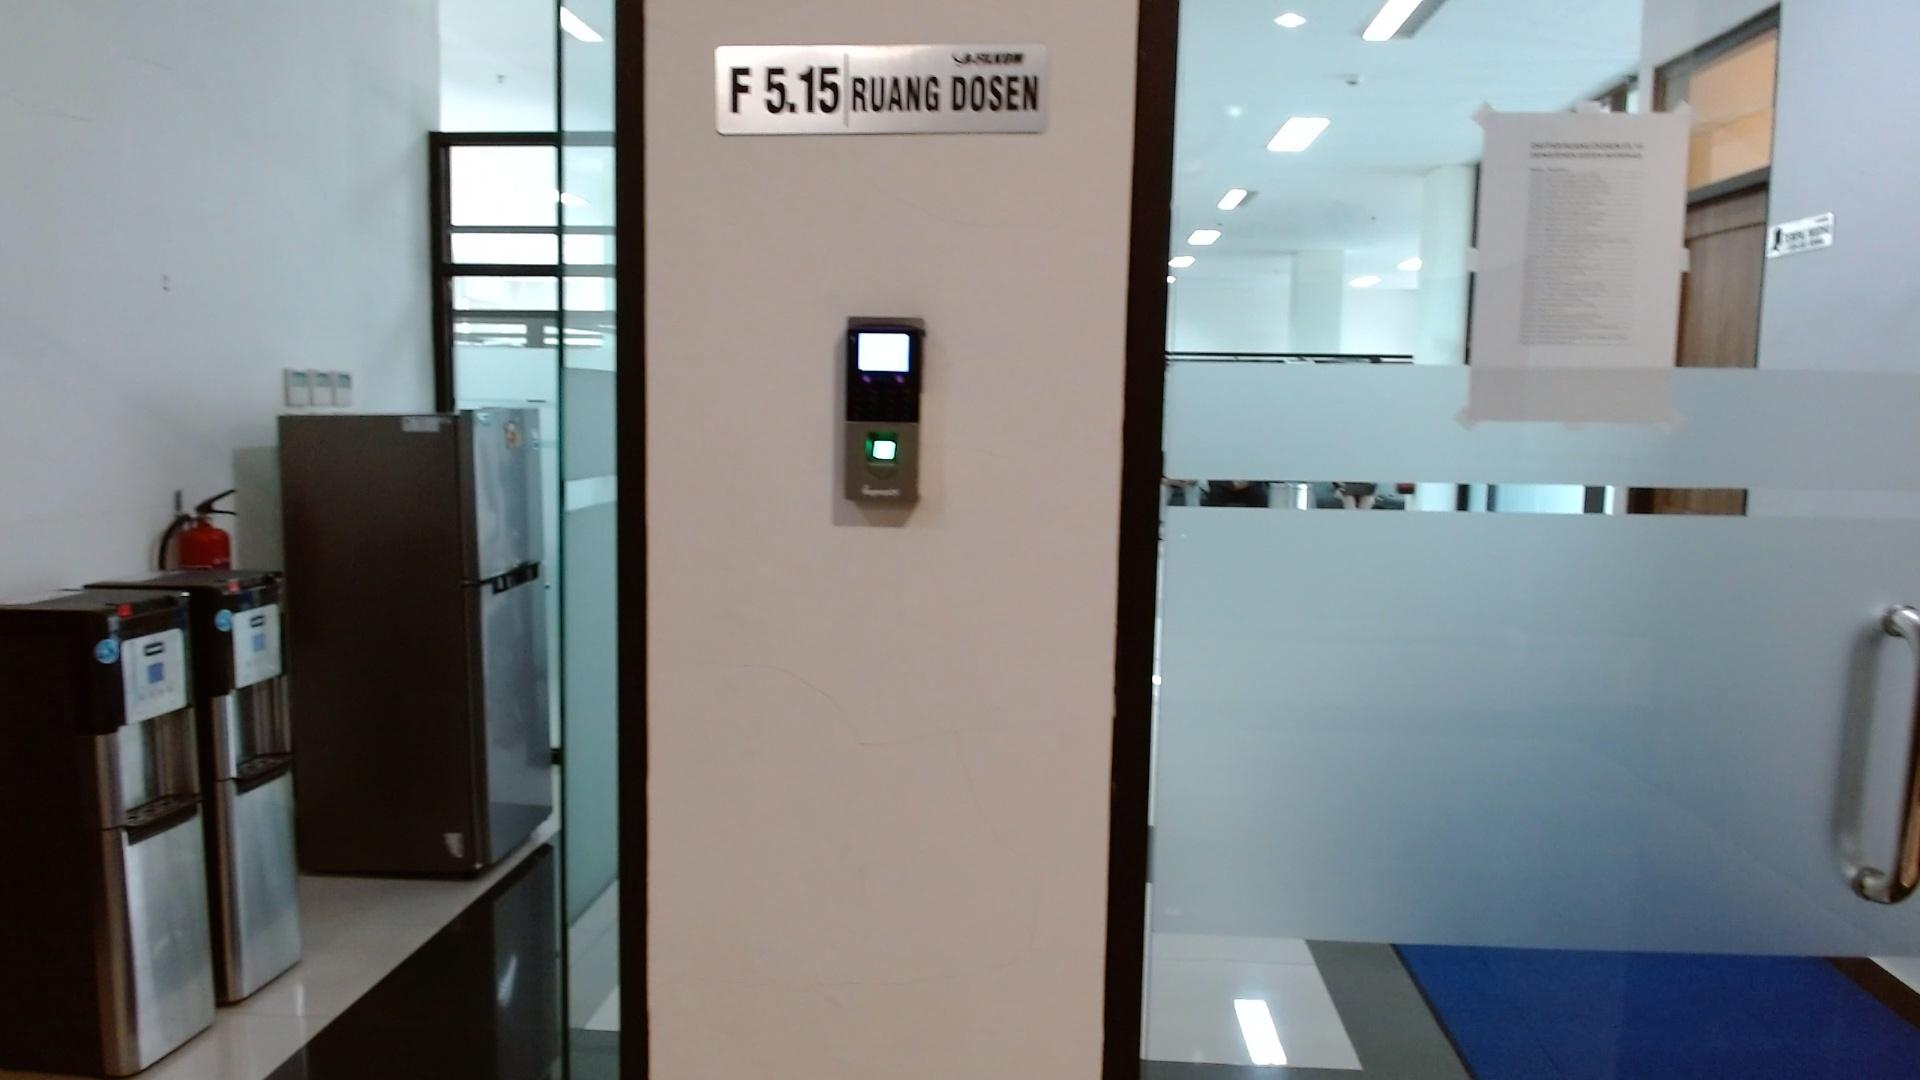plate: (713, 44, 1048, 136)
